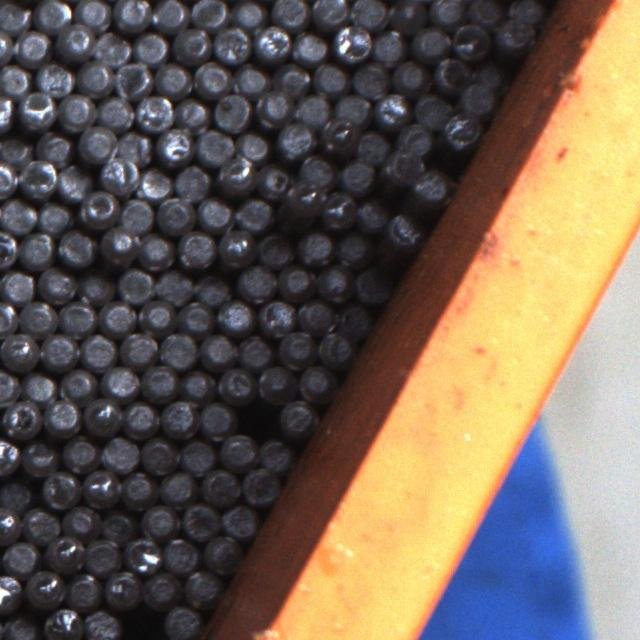tool: (493, 12, 534, 52), (78, 187, 118, 227), (60, 434, 100, 474), (0, 398, 40, 438), (240, 466, 280, 506), (25, 566, 64, 607), (80, 466, 119, 506), (182, 567, 222, 606), (237, 262, 276, 302), (141, 568, 180, 608), (201, 466, 240, 506), (19, 438, 58, 478), (180, 500, 220, 539), (440, 112, 480, 151), (17, 88, 55, 129), (40, 469, 79, 508), (218, 431, 257, 470), (64, 570, 103, 609), (41, 396, 80, 435), (173, 162, 212, 201), (277, 326, 316, 365), (201, 532, 240, 571), (317, 114, 356, 153), (213, 90, 251, 130), (216, 226, 254, 266), (102, 568, 140, 608), (216, 154, 256, 192), (296, 154, 336, 192), (98, 224, 138, 262), (296, 362, 334, 402), (281, 183, 321, 221), (140, 436, 178, 475), (57, 91, 95, 130), (101, 434, 139, 473), (119, 468, 157, 507), (159, 330, 197, 369), (235, 194, 274, 232), (256, 362, 294, 401), (155, 194, 194, 232), (256, 230, 295, 268), (114, 59, 152, 98), (256, 298, 295, 336), (195, 127, 233, 166), (213, 23, 251, 62), (123, 535, 161, 574), (276, 398, 314, 437), (411, 165, 450, 203), (315, 326, 353, 365), (395, 122, 434, 160), (48, 531, 87, 569), (354, 265, 392, 304), (450, 21, 490, 58), (39, 332, 77, 370), (38, 264, 76, 302), (217, 364, 255, 402), (162, 535, 200, 573), (160, 468, 198, 506), (132, 28, 170, 66), (57, 227, 95, 265), (316, 264, 354, 302), (179, 437, 217, 475), (336, 230, 374, 268), (372, 90, 410, 128), (192, 59, 230, 97), (140, 362, 178, 400), (100, 362, 138, 400), (159, 398, 197, 436), (333, 24, 371, 62), (92, 28, 130, 66), (82, 396, 120, 434), (137, 232, 175, 270), (84, 536, 122, 574), (254, 88, 292, 126), (56, 162, 94, 200), (176, 229, 214, 267), (118, 328, 156, 366), (58, 297, 96, 335), (75, 58, 113, 96), (156, 126, 194, 164), (253, 24, 291, 62), (296, 228, 334, 266), (197, 331, 235, 369), (197, 399, 235, 437), (140, 502, 178, 540), (276, 262, 314, 300), (332, 92, 370, 130), (78, 125, 116, 163), (171, 24, 209, 62), (256, 162, 294, 200), (276, 120, 314, 158), (22, 505, 60, 543), (384, 212, 422, 250), (0, 330, 37, 369), (319, 190, 356, 229), (258, 435, 297, 472), (97, 154, 136, 191), (458, 78, 498, 114), (14, 27, 51, 65), (96, 92, 134, 129), (196, 194, 233, 232), (370, 26, 407, 64), (237, 332, 274, 370), (390, 57, 428, 94), (59, 365, 97, 402), (136, 93, 173, 131), (35, 60, 73, 97), (216, 298, 254, 335), (339, 156, 376, 194), (18, 298, 56, 335), (35, 128, 73, 165), (117, 195, 154, 233), (136, 164, 173, 202), (154, 59, 191, 97), (36, 197, 74, 234), (121, 399, 159, 436), (176, 297, 214, 334), (114, 128, 151, 166), (232, 61, 270, 98), (62, 500, 100, 537), (19, 159, 56, 197), (412, 21, 449, 59), (234, 126, 272, 163), (352, 60, 389, 98), (220, 501, 258, 538), (78, 268, 116, 305), (97, 507, 135, 544), (378, 154, 415, 192), (1, 538, 40, 574), (430, 54, 469, 90), (237, 399, 276, 435), (79, 332, 116, 369), (173, 94, 210, 131), (57, 21, 94, 58), (98, 298, 135, 335), (19, 368, 56, 405), (273, 61, 310, 98), (292, 28, 328, 66), (18, 230, 54, 268), (118, 266, 154, 304), (296, 296, 334, 332), (414, 92, 452, 128), (156, 268, 194, 304), (194, 271, 232, 307), (354, 196, 390, 234), (162, 604, 200, 640), (336, 301, 374, 337), (41, 605, 80, 640), (137, 296, 174, 332), (312, 60, 349, 96), (0, 196, 36, 233), (179, 366, 216, 402), (0, 476, 35, 514), (123, 605, 161, 640), (294, 90, 330, 126), (355, 128, 391, 164), (83, 606, 121, 640), (0, 266, 34, 304), (34, 0, 72, 32), (150, 0, 188, 32), (0, 132, 32, 170), (230, 0, 268, 31), (0, 61, 31, 98), (190, 0, 228, 30), (112, 0, 150, 30), (390, 0, 427, 30), (310, 0, 348, 29), (350, 0, 387, 29), (4, 611, 41, 640), (272, 0, 308, 29), (74, 0, 110, 29), (0, 0, 30, 34), (466, 0, 503, 27), (428, 0, 465, 25), (0, 571, 21, 610), (0, 438, 20, 478), (0, 504, 21, 542), (0, 368, 19, 406), (0, 297, 17, 335), (0, 160, 17, 197), (0, 230, 16, 268)
